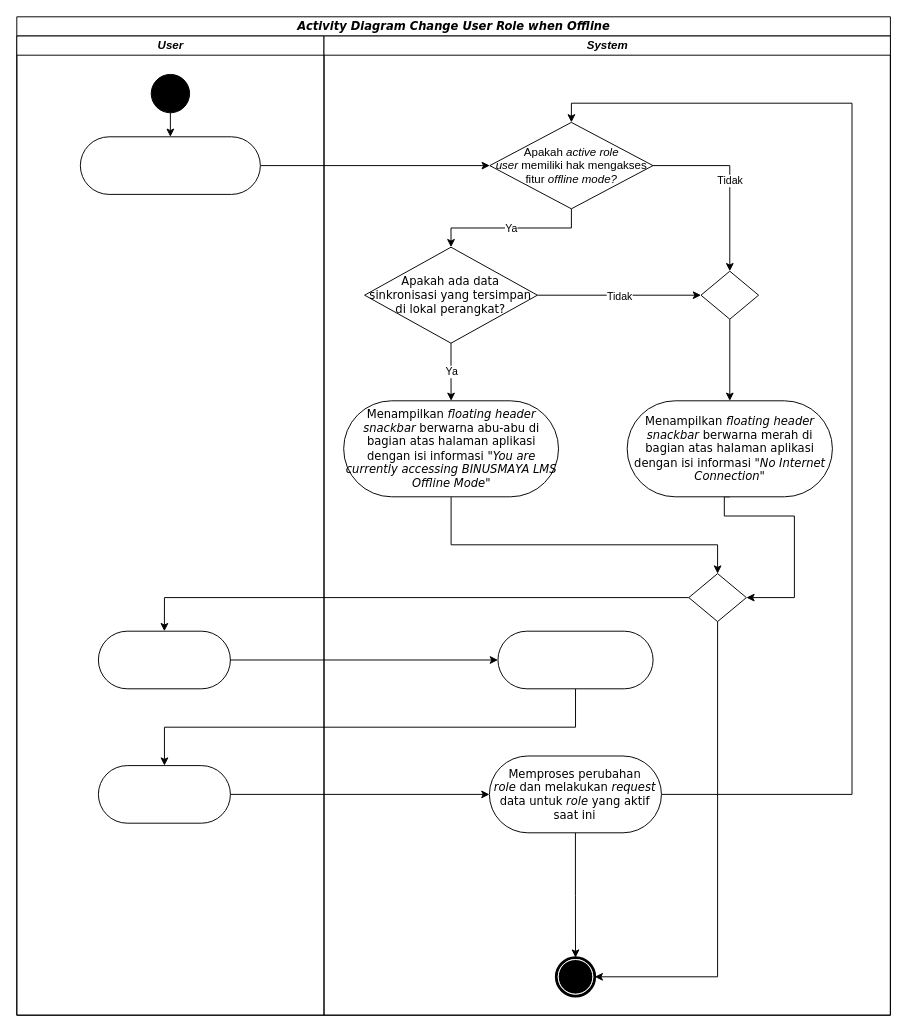
Some shapes in this 907 by 1032 pixel diagram are drawn without their labels. The centre of each missing label's shape, as x and y in pixels:
"Masuk ke halaman home dan mematikan koneksi internet" goes at (169,165).
"Membuka menu role" goes at (163,659).
"Menampilkan data list role milik user" goes at (575,659).
"Mengubah role yang ingin diaktifkan" goes at (163,794).
